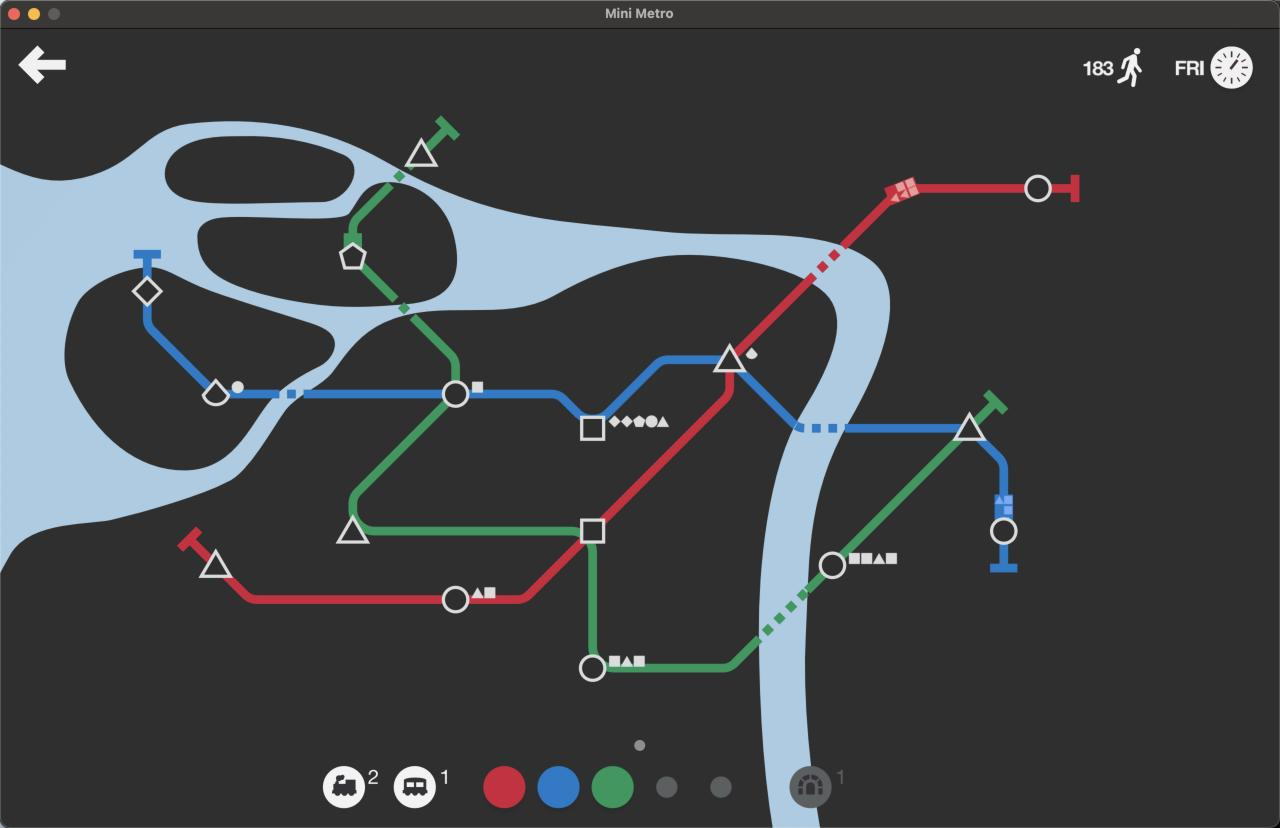CIRCLE: (441, 585, 470, 615), (818, 551, 847, 580), (441, 379, 470, 408), (989, 517, 1018, 546), (578, 653, 607, 682), (1024, 174, 1053, 203)
GEM: (131, 276, 164, 307)
PENTAGON: (339, 240, 367, 270)
SQUARE: (579, 517, 607, 545), (579, 415, 606, 442), (472, 381, 484, 393)
TRIANGLE: (953, 410, 987, 442), (405, 137, 439, 169), (713, 342, 746, 373), (336, 515, 369, 546), (199, 549, 232, 580)
WEDGE: (202, 378, 230, 407)
